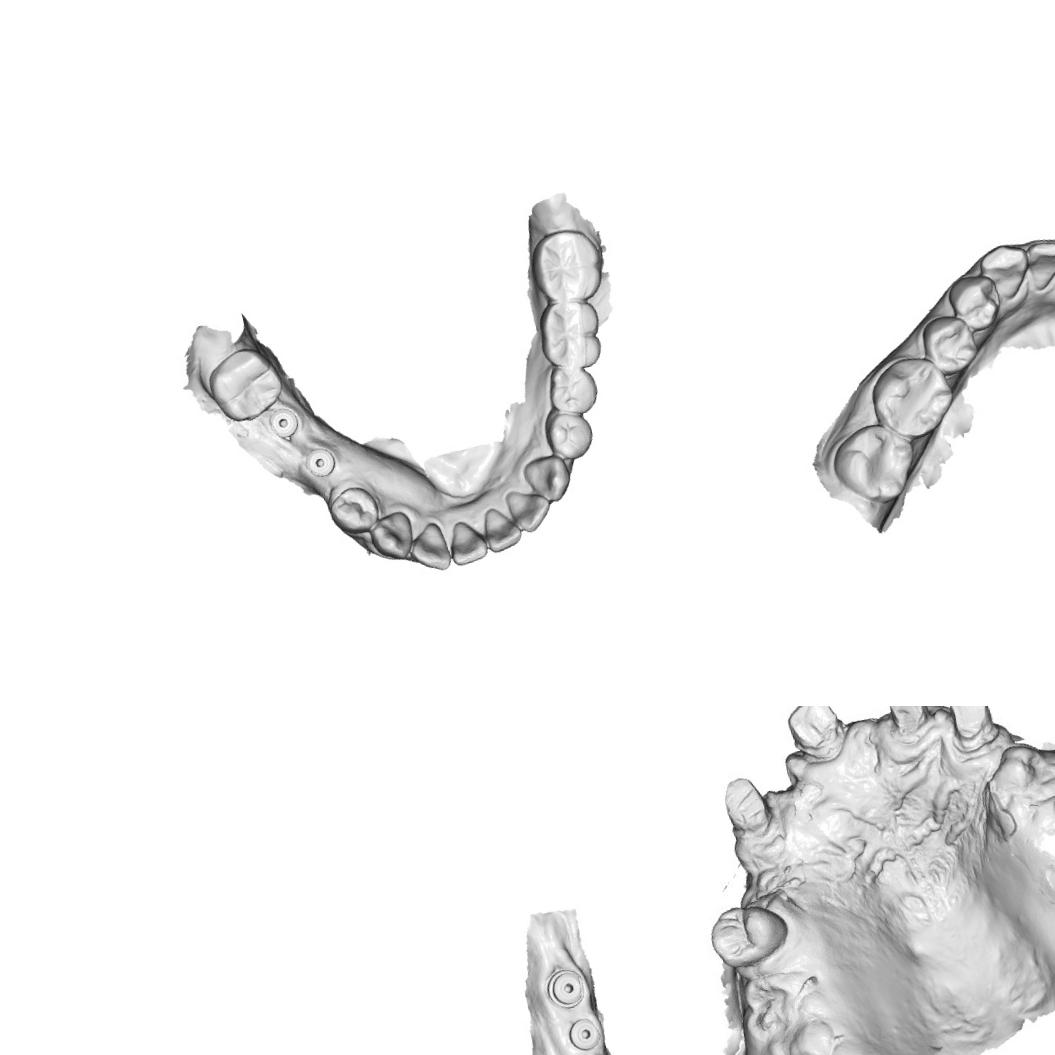canine: (974, 236, 1038, 307), (519, 451, 576, 507), (366, 509, 418, 566)
crown: (720, 767, 782, 833), (788, 706, 851, 766), (881, 706, 935, 738), (948, 706, 998, 736)
implant: (540, 963, 593, 1014), (559, 1009, 608, 1055), (266, 404, 304, 443), (301, 444, 340, 481)
incisor: (404, 518, 458, 579), (504, 483, 556, 536), (1019, 227, 1055, 296), (479, 501, 525, 554), (444, 515, 490, 567)
molar: (862, 346, 962, 448), (826, 413, 926, 513), (202, 341, 290, 429), (524, 224, 608, 308), (531, 293, 610, 376)
premolar: (706, 897, 792, 972), (914, 308, 983, 381), (942, 268, 1008, 339), (542, 358, 604, 421), (323, 482, 383, 544), (540, 402, 597, 464)
